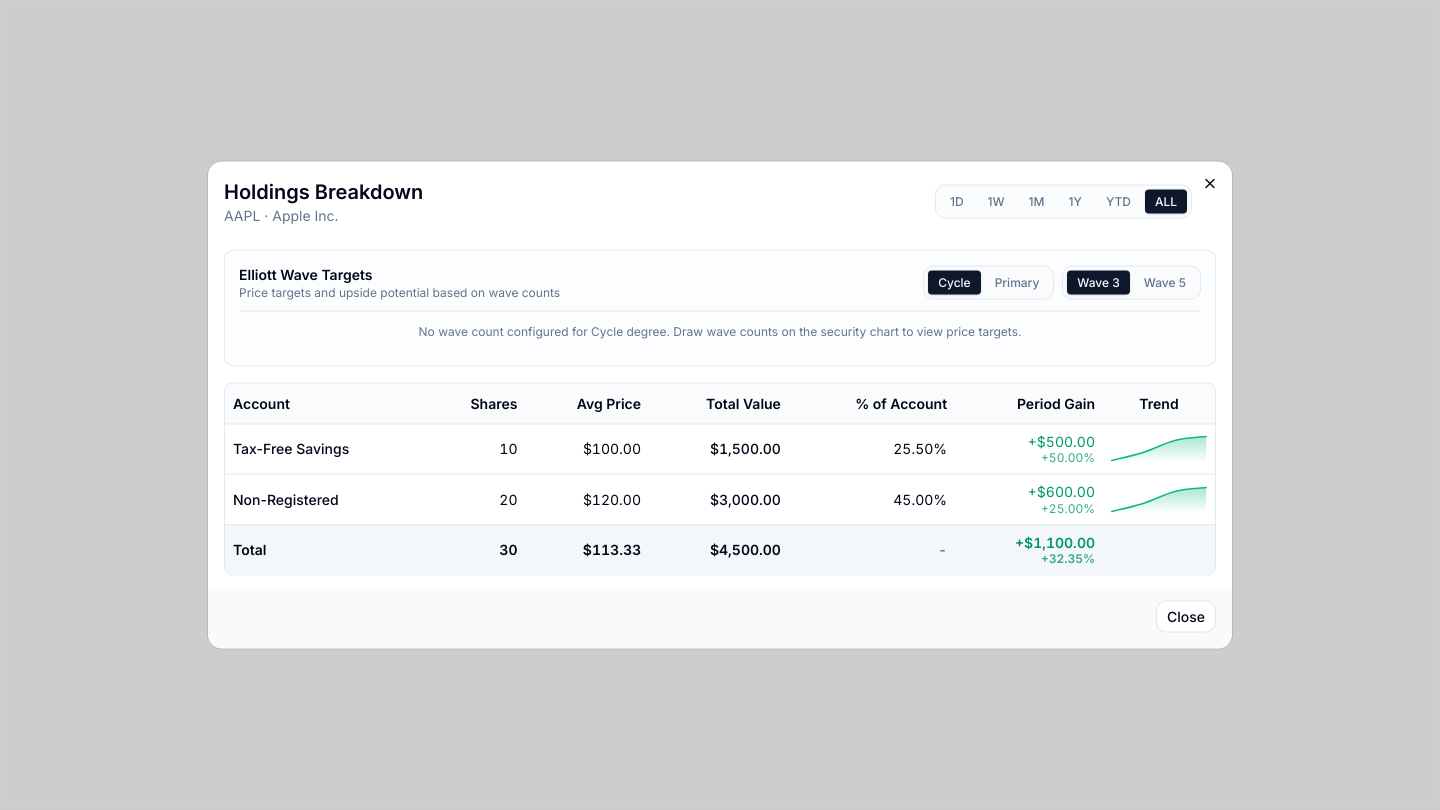
it: HoldingsModal Component › Period switching & dynamic recalculations › recalculates gain metrics when period changes
Click the button "1D" at (957, 202), box left=940, top=190, right=974, bottom=214
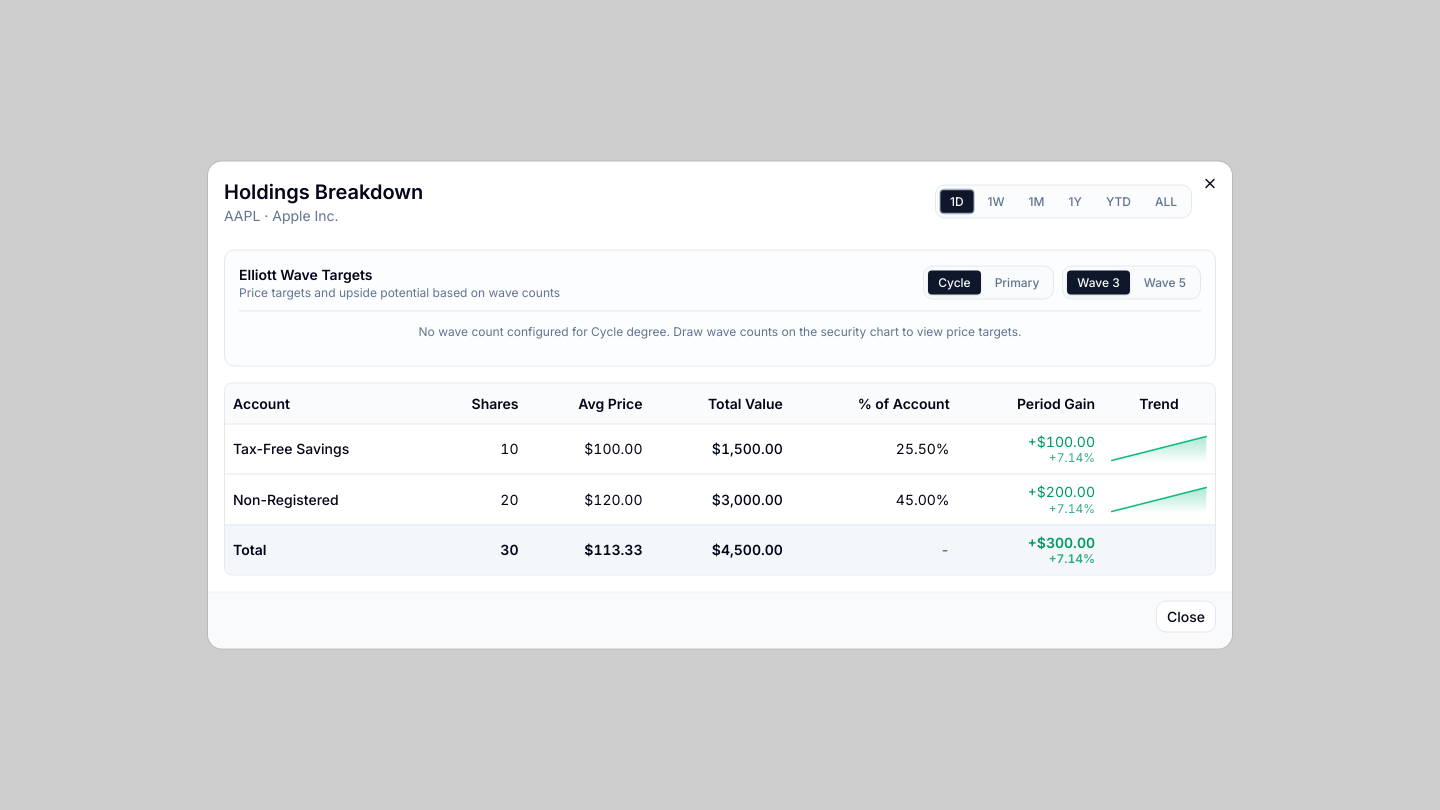
Expected: the text "+$100.00" is shown, left=1028, top=432, right=1095, bottom=450
